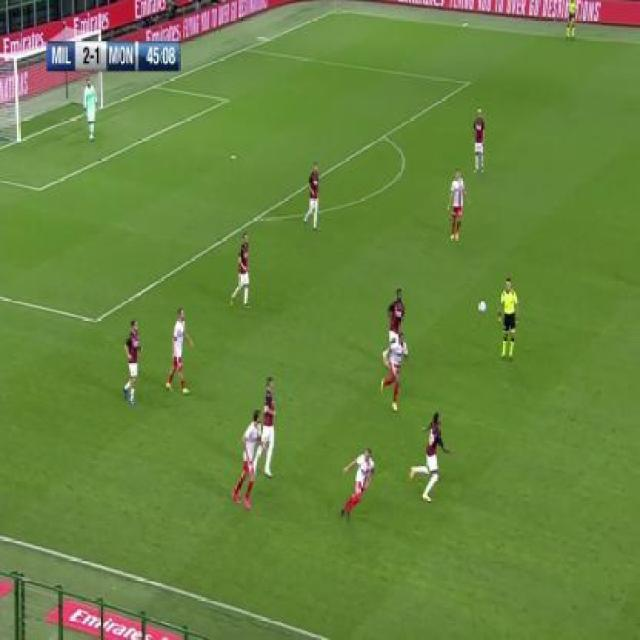ball: (477, 298, 488, 315)
player: (410, 410, 453, 504), (338, 442, 377, 522), (233, 407, 262, 510), (163, 307, 194, 396), (380, 331, 405, 416), (497, 274, 520, 363), (122, 318, 144, 407), (258, 376, 277, 479), (446, 166, 471, 242), (230, 231, 253, 311), (303, 159, 323, 233), (471, 106, 487, 177), (83, 77, 99, 142), (385, 287, 407, 333), (565, 1, 578, 41)
